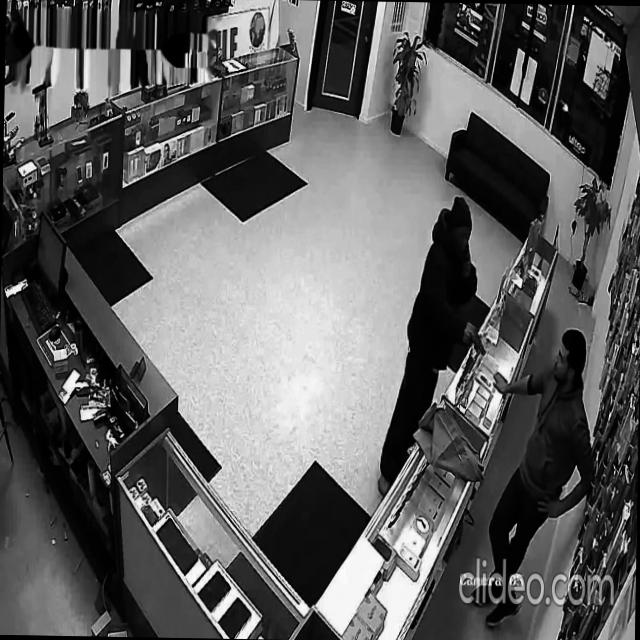gun: (470, 326, 486, 358)
person: (469, 325, 598, 631)
person with a gun: (378, 190, 488, 500)
